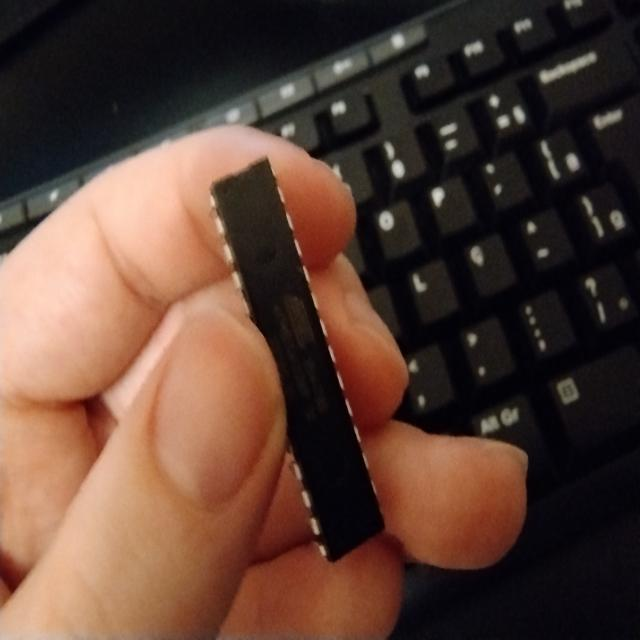atmega: (205, 152, 388, 564)
